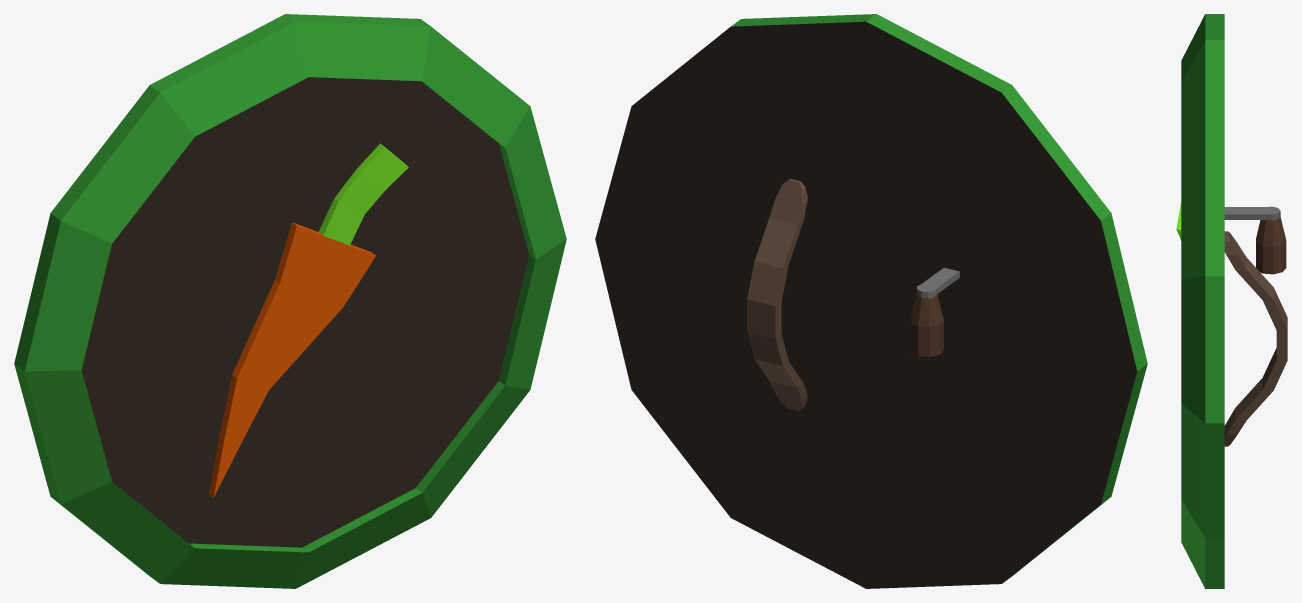
Rendered from Carrot_shield.fbx.
3 renders of one model, left to right at view 1: azimuth 30°, elevation 25°; view 2: azimuth 150°, elevation 25°; view 3: azimuth 270°, elevation 25°, orthographic. The views are drawn at different scales.
Parts seen in each view (by area): view 1: Circle.001; view 2: Circle.001; view 3: Circle.001.
Part boxes in pixels (x1,y1,x2,y2): Circle.001: [14, 14, 566, 588]; Circle.001: [595, 14, 1147, 588]; Circle.001: [1176, 14, 1287, 588].
Bounding box in the file's own units: 98.05 × 98.05 × 18.94.
